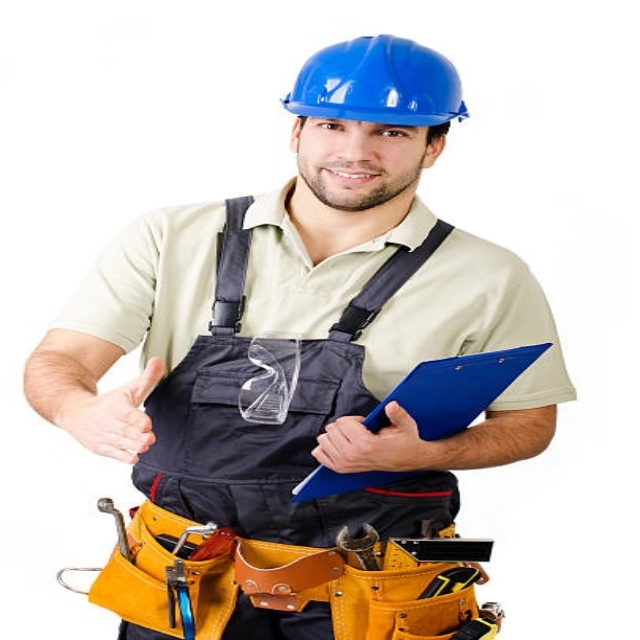Sin_gafas: (305, 116, 420, 152)
Sin_guantes: (62, 353, 167, 465), (308, 400, 422, 473)
Sin_mascara: (313, 160, 387, 198)
